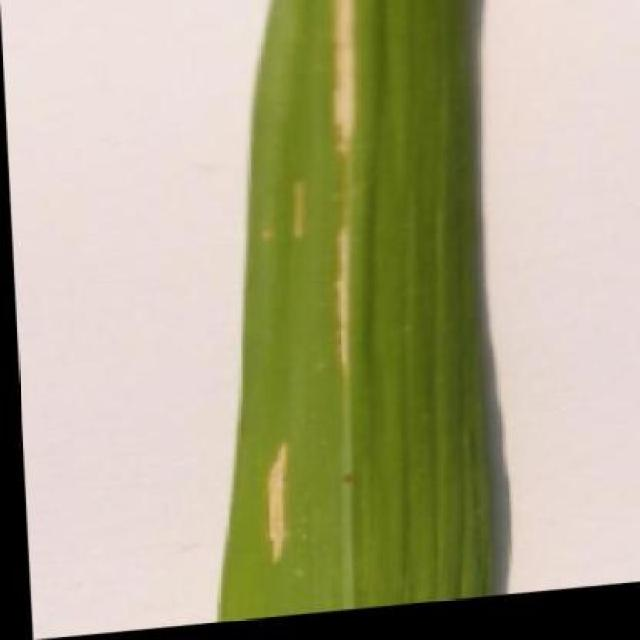Brown_Spot: (174, 0, 508, 628)
